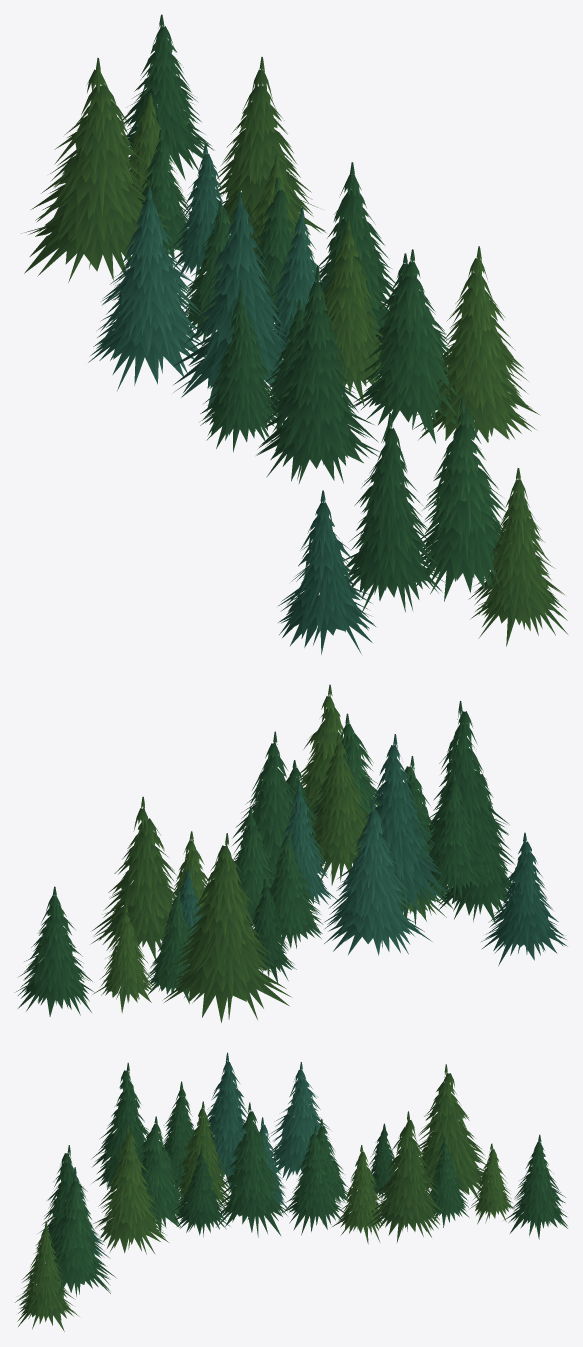
File: pine_13.glb
3 renders of one model, top to bottom at view 1: azimuth 30°, elevation 25°; view 2: azimuth 150°, elevation 25°; view 3: azimuth 270°, elevation 25°, orthographic. The views are drawn at different scales.
Parts seen in each view (by area): view 1: pine_13; view 2: pine_13; view 3: pine_13.
Part boxes in pixels (x1,y1,x2,y2): pine_13: (22,14,567,654); pine_13: (14,684,567,1022); pine_13: (15,1052,567,1331).
Size of the model in its own units: 21.97 by 24.34 by 54.04.
1 material, 1 textured.
